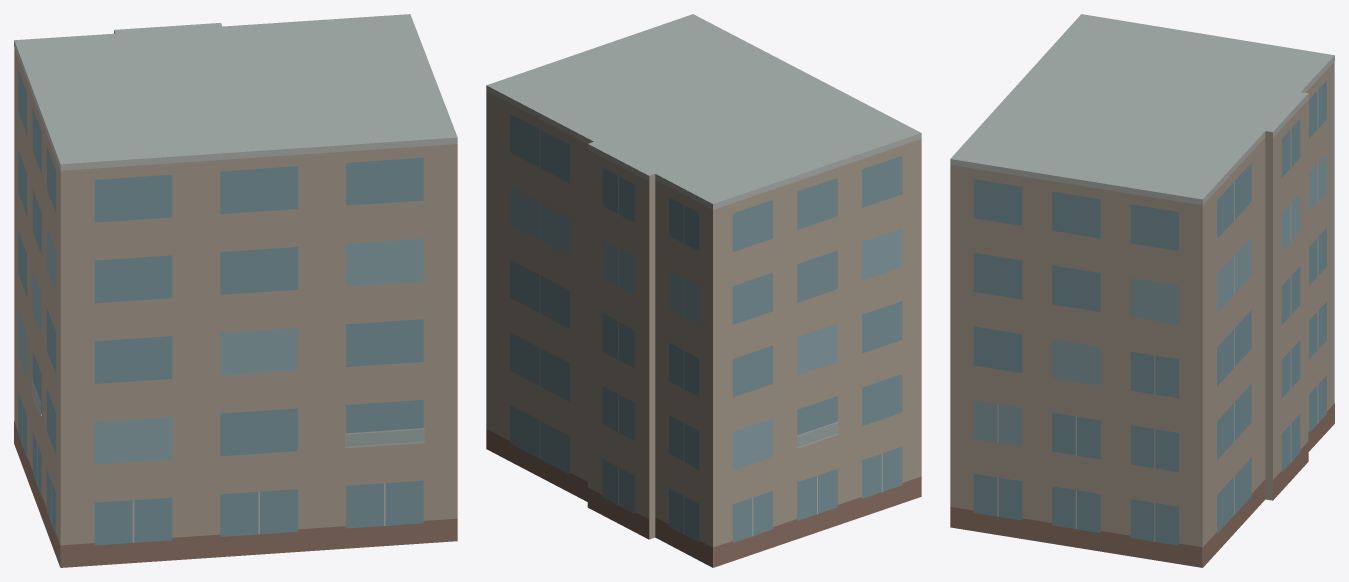
File: survey-upis-32937293.glb
3 views of the same model, side by side, from view 1: azimuth 30°, elevation 25°; view 2: azimuth 150°, elevation 25°; view 3: azimuth 270°, elevation 25° (orthographic). The views are drawn at different scales.
Parts seen in each view (by area): view 1: survey-upis-32937293.tmp; view 2: survey-upis-32937293.tmp; view 3: survey-upis-32937293.tmp.
Part boxes in pixels (<box>): survey-upis-32937293.tmp: <box>14,14,457,567</box>; survey-upis-32937293.tmp: <box>486,14,921,567</box>; survey-upis-32937293.tmp: <box>950,14,1334,567</box>.
Size of the model in its own units: 16.42 by 15.2 by 14.39.
